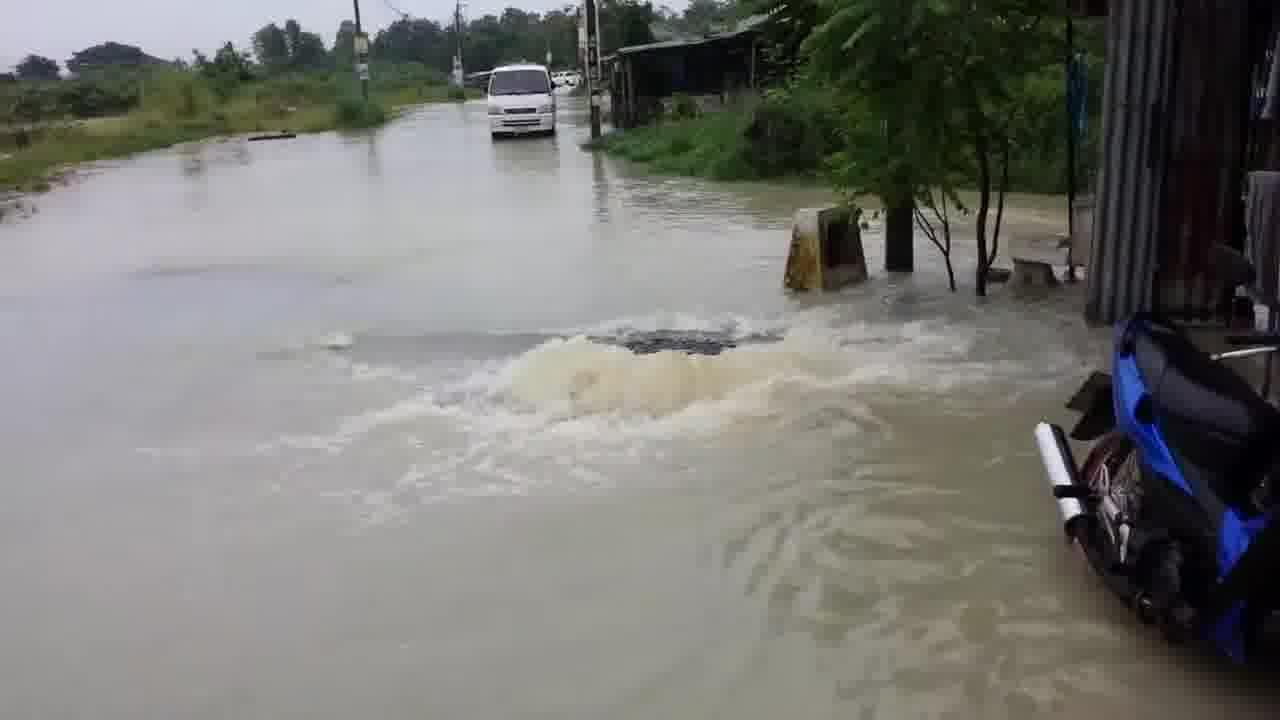drainage overflow-repair-: (420, 283, 905, 456)
